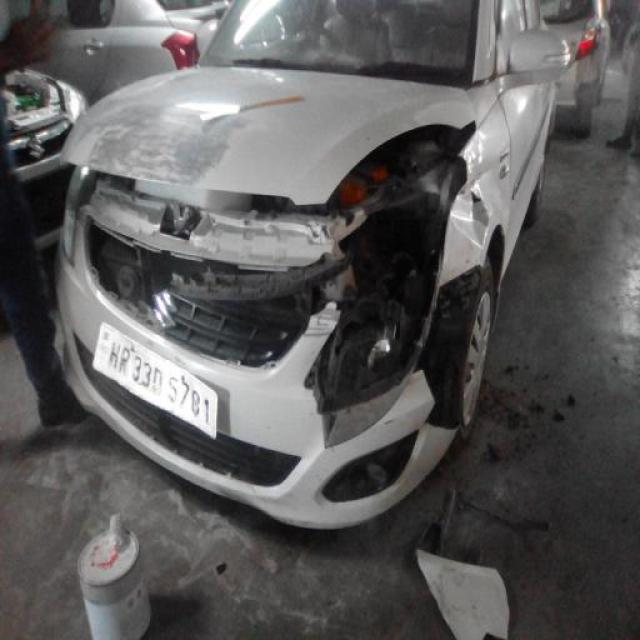crush: (68, 124, 481, 431)
dent: (448, 144, 515, 274)
scratch: (70, 98, 256, 181)
